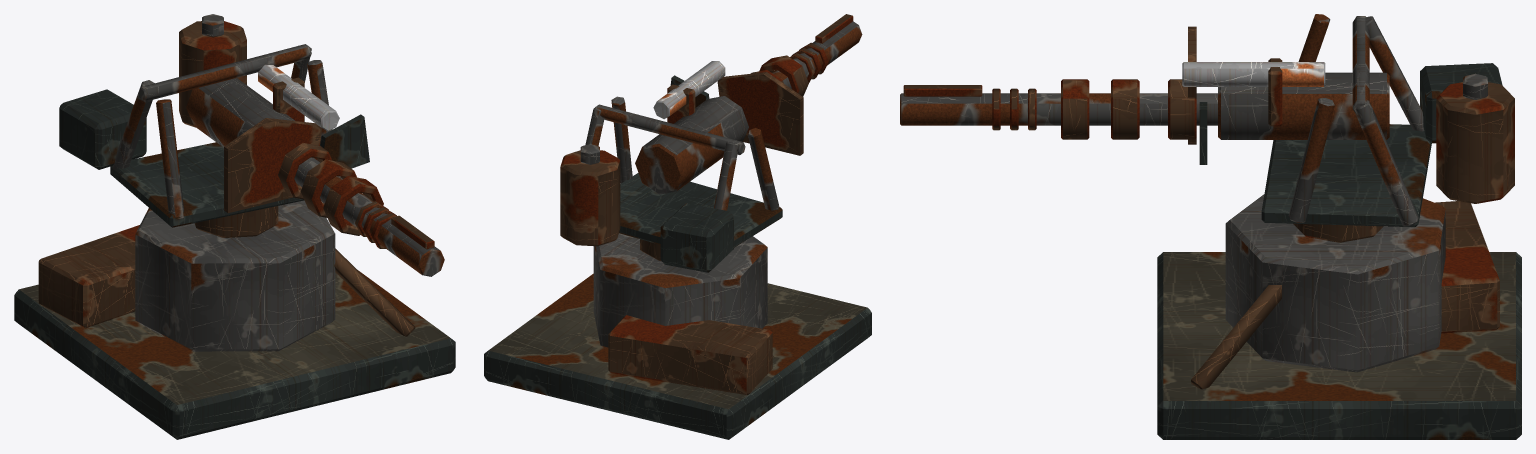
File: R4W_Basic_LOD1.glb
3 renders of one model, left to right at view 1: azimuth 30°, elevation 25°; view 2: azimuth 150°, elevation 25°; view 3: azimuth 270°, elevation 25°, orthographic. The views are drawn at different scales.
Parts seen in each view (by area): view 1: R4W_Basic_LOD1; view 2: R4W_Basic_LOD1; view 3: R4W_Basic_LOD1.
Part boxes in pixels (x1,y1,x2,y2): R4W_Basic_LOD1: [14, 14, 455, 439]; R4W_Basic_LOD1: [484, 14, 871, 439]; R4W_Basic_LOD1: [900, 14, 1521, 439].
Size of the model in its own units: 0.51 by 0.492 by 0.87.
Materials: 5 (5 with a texture image).
